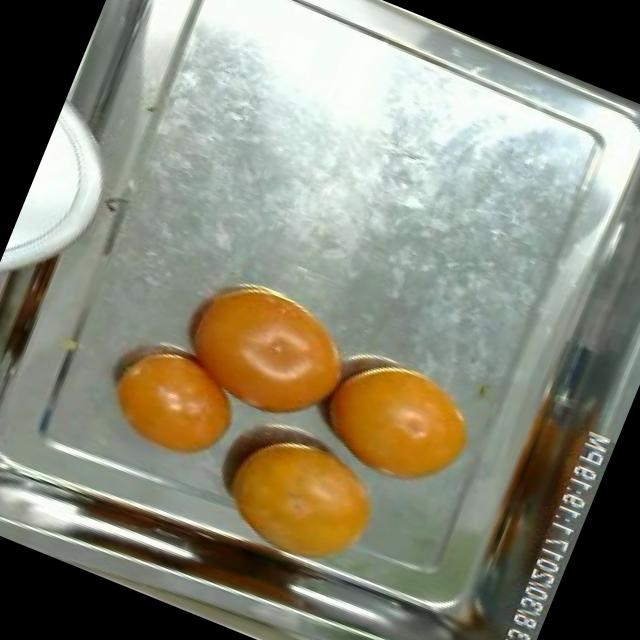Fruit: (142, 251, 374, 449), (198, 412, 404, 586), (295, 335, 495, 510), (81, 315, 265, 484)
